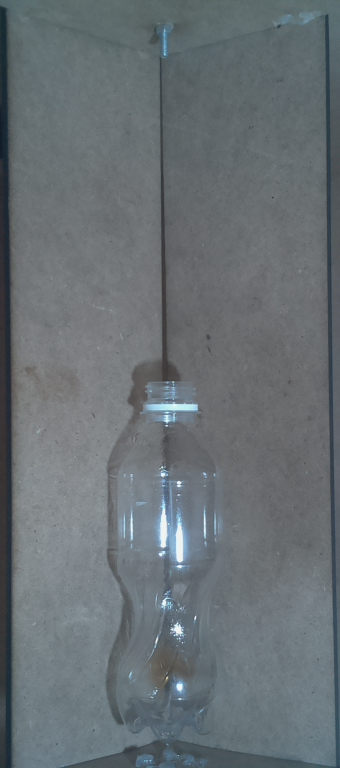Bouteille_0.3L: (102, 373, 238, 747)
